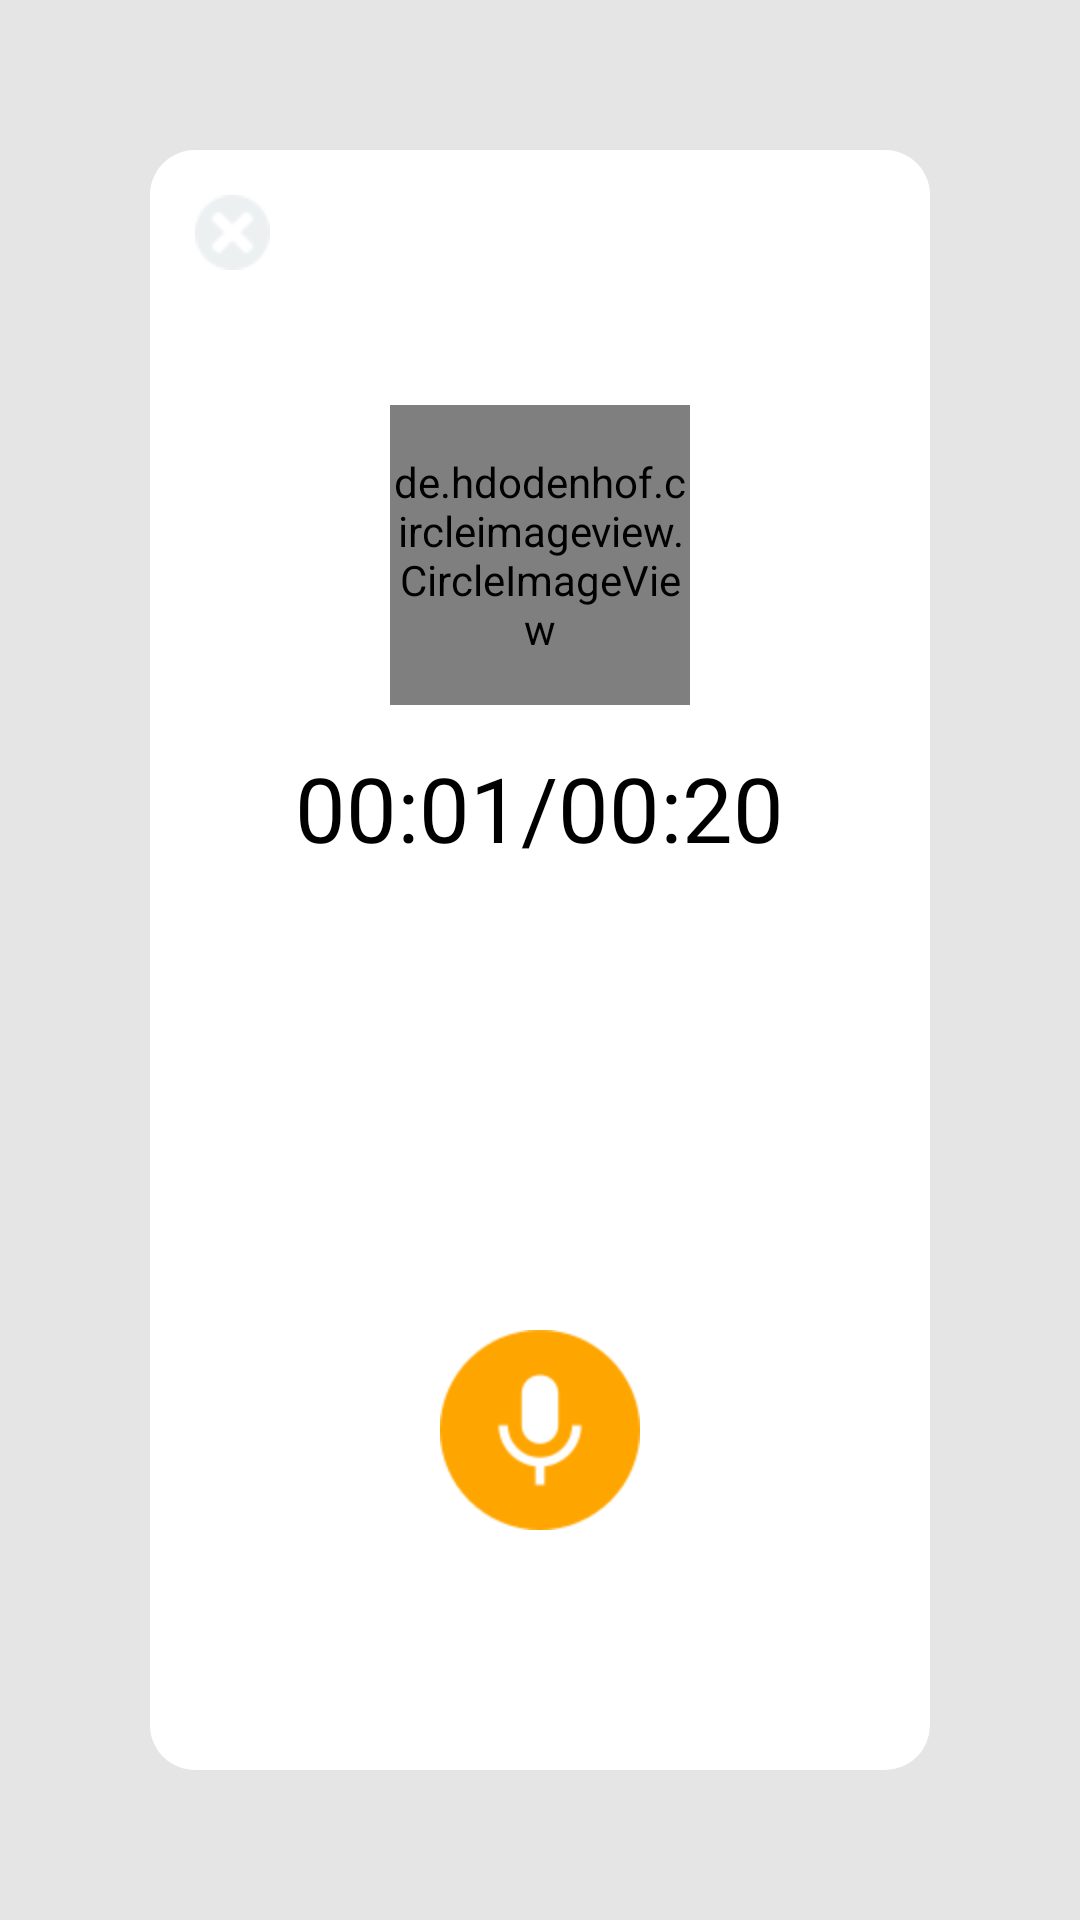

Named icons in this screenshot (1080 x 1920) and their centers, (x=x, y=y):
recordaudioorange: (x=540, y=1430)
